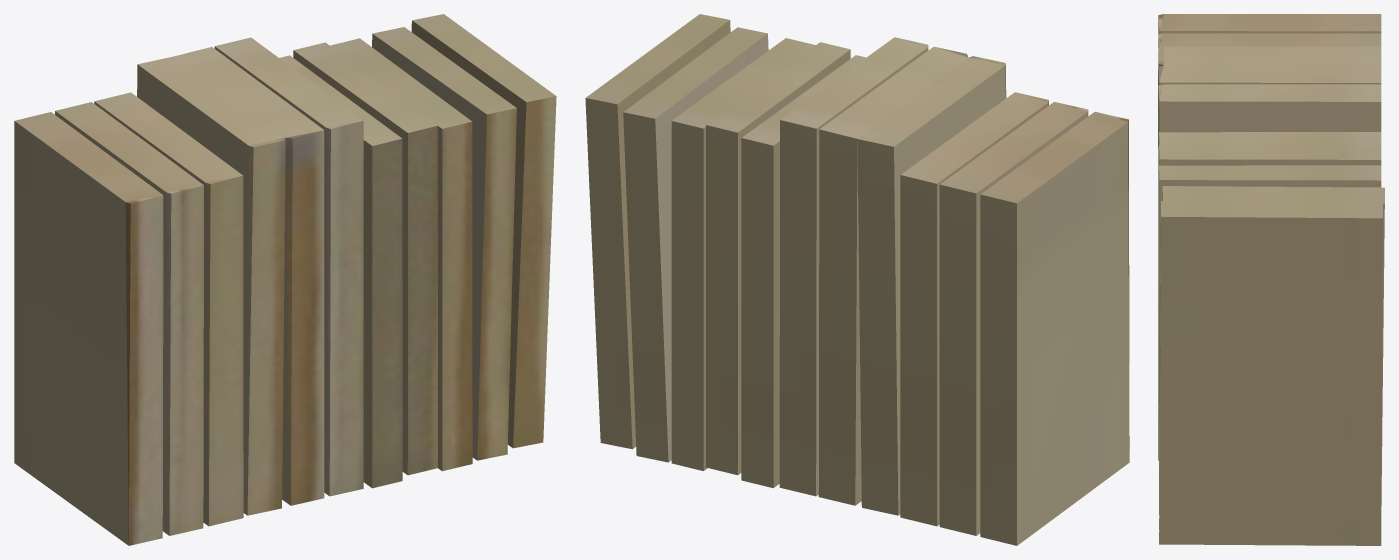
File: book2_v2.dae
3 views of the same model, side by side, from view 1: azimuth 30°, elevation 25°; view 2: azimuth 150°, elevation 25°; view 3: azimuth 270°, elevation 25° (orthographic). The views are drawn at different scales.
Parts seen in each view (by area): view 1: node; view 2: node; view 3: node.
Boxes of the visible parts, x1,y1,x2,y2 form: node: (14,14,556,545); node: (585,14,1129,545); node: (1158,14,1384,545).
Size of the model in its own units: 0.2621 by 0.2163 by 0.1223.
1 material, 1 textured.
